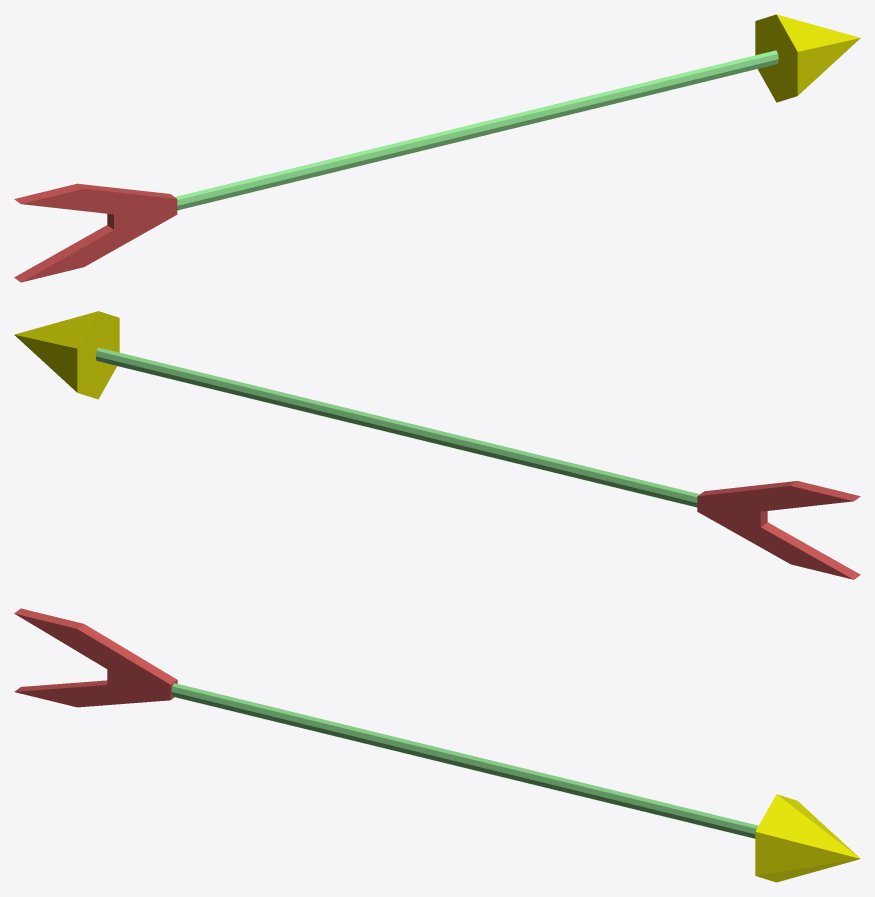
File: yay.fbx
3 views of the same model, one above another, from view 1: azimuth 30°, elevation 25°; view 2: azimuth 150°, elevation 25°; view 3: azimuth 330°, elevation 25° (orthographic).
Visible parts, largest first — view 1: pCone35; view 2: pCone35; view 3: pCone35.
Part boxes in pixels (<box>): pCone35: <box>14,14,860,282</box>; pCone35: <box>14,311,860,579</box>; pCone35: <box>14,608,860,882</box>.
Size of the model in its own units: 71.6 by 7.17 by 6.21.
